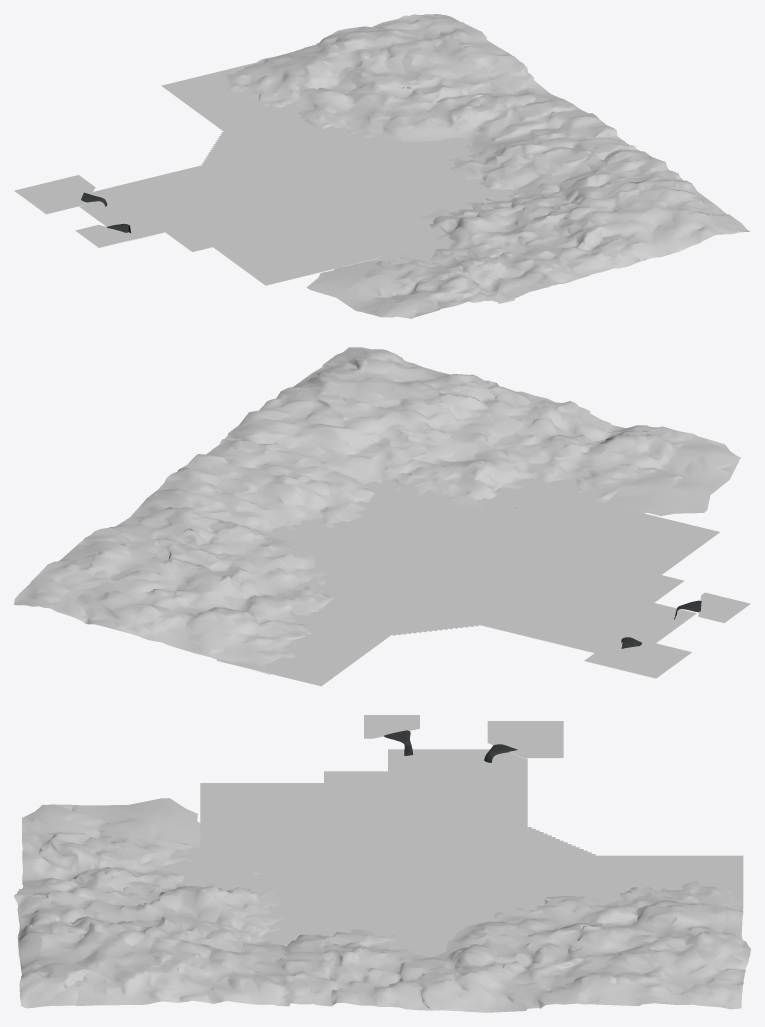
Rendered from Distant02.fbx.
3 views of the same model, one above another, from view 1: azimuth 30°, elevation 25°; view 2: azimuth 150°, elevation 25°; view 3: azimuth 270°, elevation 25° (orthographic). The views are drawn at different scales.
Parts seen in each view (by area): view 1: LODGroup_1_MainMesh_1_SubMesh_2, LODGroup_1_MainMesh_1_SubMesh_1; view 2: LODGroup_1_MainMesh_1_SubMesh_2, LODGroup_1_MainMesh_1_SubMesh_1, LODGroup_1_MainMesh_1_SubMesh_4; view 3: LODGroup_1_MainMesh_1_SubMesh_2, LODGroup_1_MainMesh_1_SubMesh_1, LODGroup_1_MainMesh_1_SubMesh_3.
Boxes of the visible parts, x1,y1,x2,y2 form: LODGroup_1_MainMesh_1_SubMesh_2: (220, 14, 749, 318); LODGroup_1_MainMesh_1_SubMesh_1: (14, 63, 513, 285); LODGroup_1_MainMesh_1_SubMesh_2: (14, 347, 740, 674); LODGroup_1_MainMesh_1_SubMesh_1: (217, 476, 750, 686); LODGroup_1_MainMesh_1_SubMesh_4: (217, 499, 750, 686); LODGroup_1_MainMesh_1_SubMesh_2: (14, 798, 750, 1012); LODGroup_1_MainMesh_1_SubMesh_1: (156, 715, 743, 956); LODGroup_1_MainMesh_1_SubMesh_3: (384, 730, 517, 762).
Bounding box in the file's own units: 86455 × 4365 × 92280.
